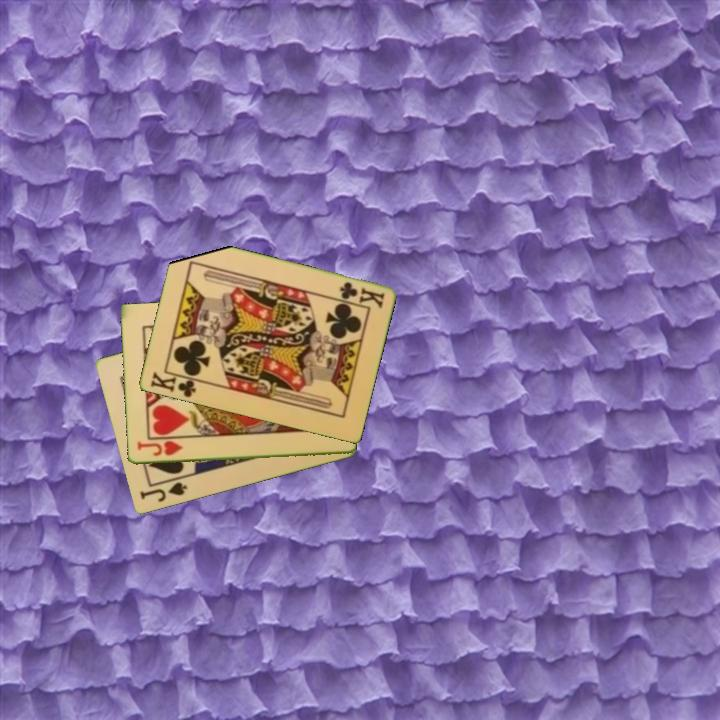Jh: (133, 438, 185, 459)
Js: (136, 479, 190, 505)
Kc: (147, 368, 203, 401), (336, 278, 387, 311)
